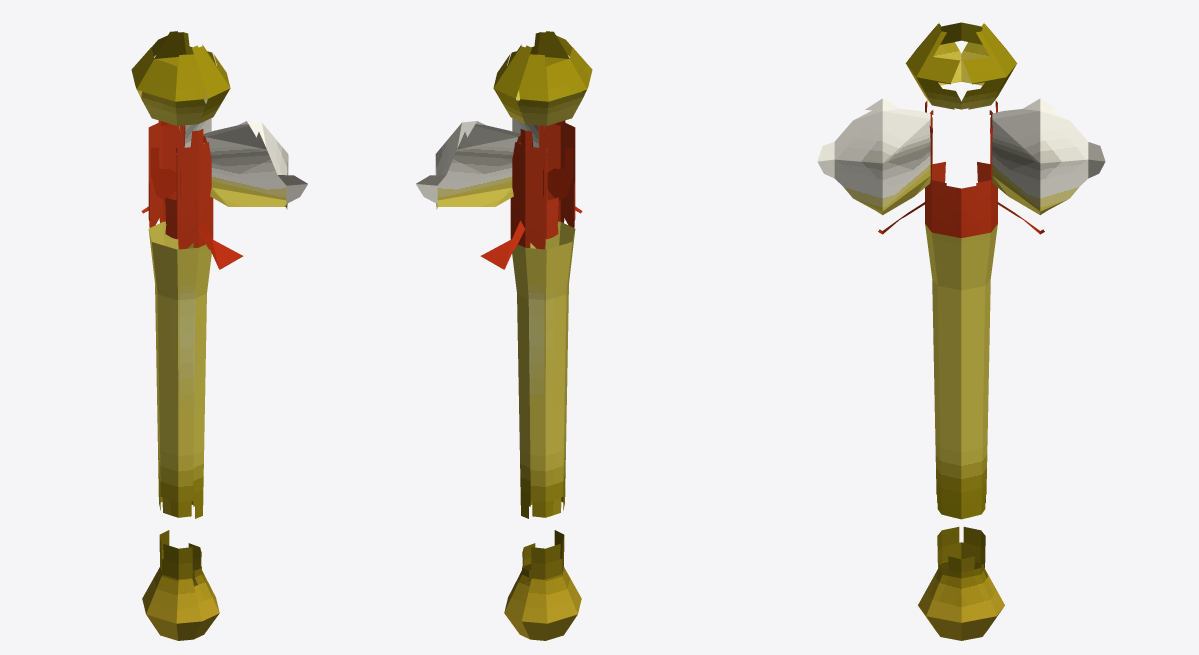
Rendered from bleepbloopbop.obj.
3 views of the same model, side by side, from view 1: azimuth 30°, elevation 25°; view 2: azimuth 150°, elevation 25°; view 3: azimuth 270°, elevation 25° (orthographic). The views are drawn at different scales.
Size of the model in its own units: 39.66 by 137 by 91.25.
